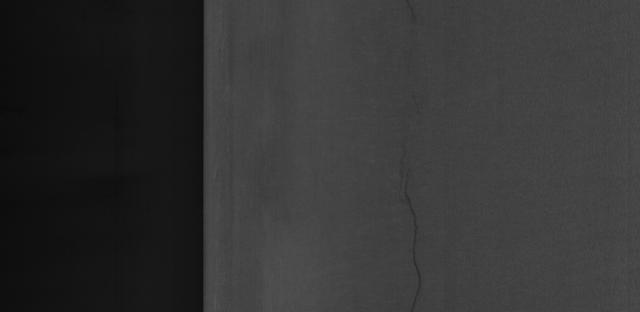water_spot: (390, 162, 441, 306)
